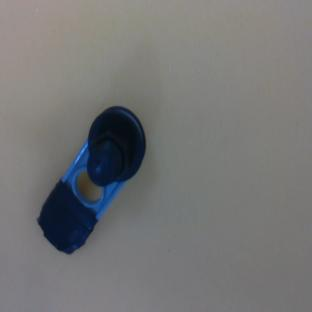part_1_bad: (23, 97, 163, 261)
